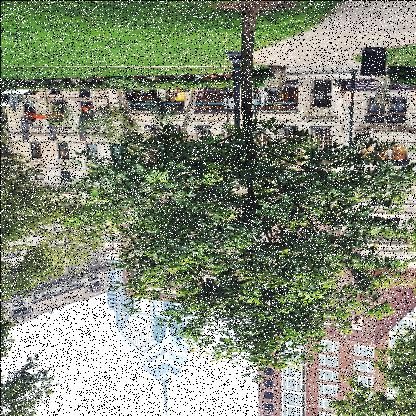Tree: (96, 9, 404, 369), (0, 66, 95, 415), (332, 325, 415, 415)
